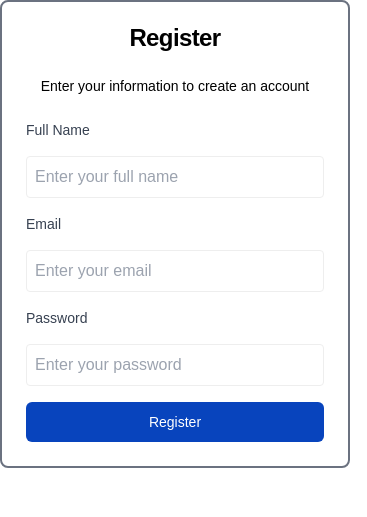
it: Register Component › handles registration error
The width and height of the screenshot is (367, 517).
# Fill in the form
Type "John Doe" into the field labelled "Full Name" at (175, 177), box [26,156,324,198]
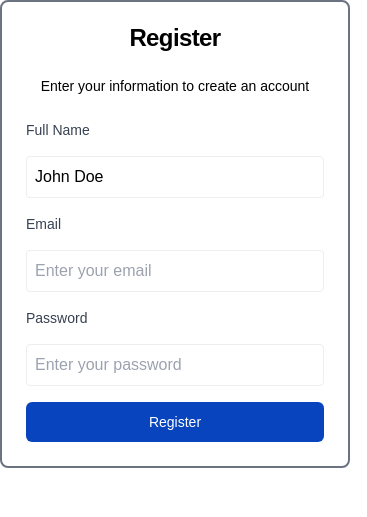
Type "john@example.com" into the field labelled "Email" at (175, 271), box [26,250,324,292]
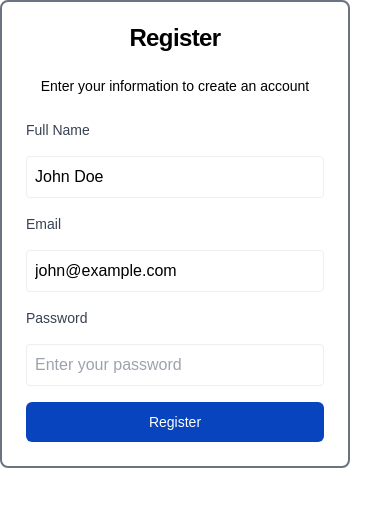
Type "password123" into the password field labelled "Password" at (175, 365), box [26,344,324,386]
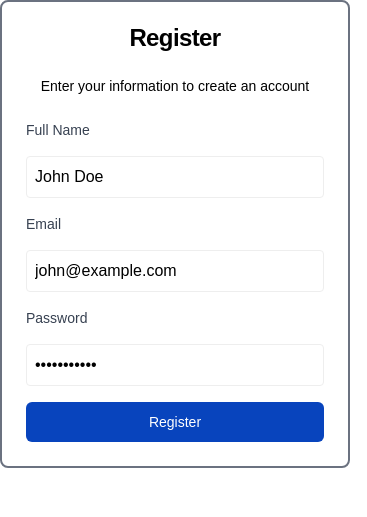
# Submit the form
Click the button "Register" at (175, 422), box [26,402,324,442]
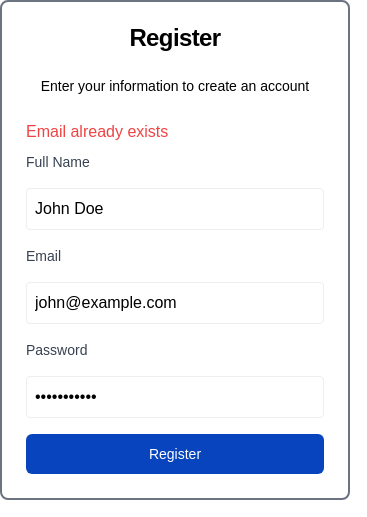
Now the text "Email already exists" is shown, box [26,123,168,140]
